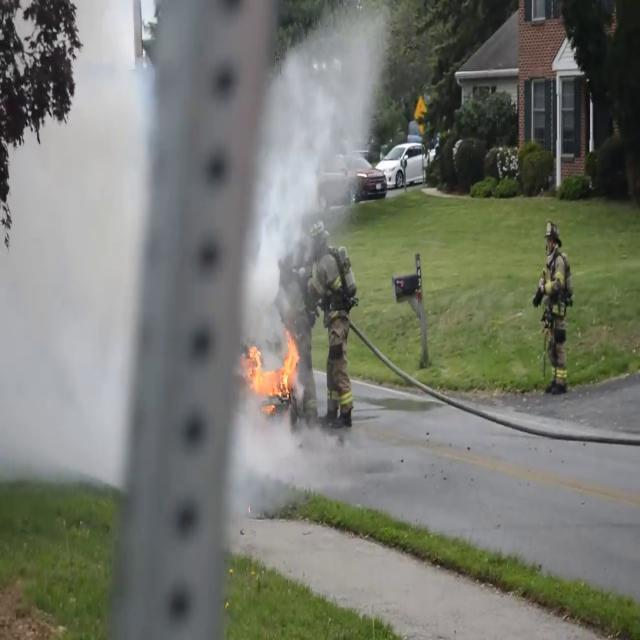Fire: (245, 326, 299, 408)
Smoke: (260, 0, 386, 294)
